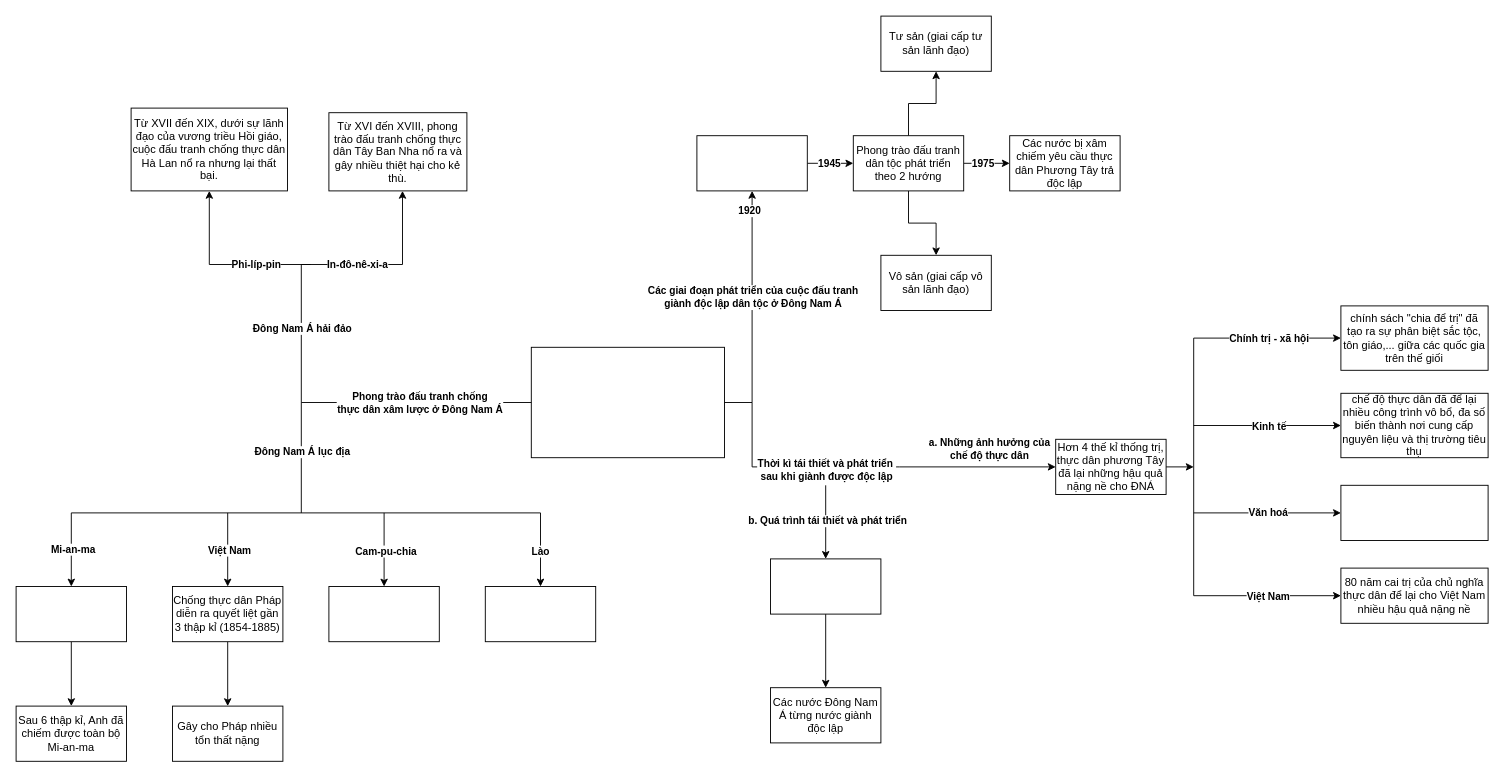
Image size: 1504x777. Some labels were removed from this diagram. The shapes that lost their labels are listed below. From the top down, each one's centre as x and y in pixels, then its label:
At point 751,163: "Phong trào chống thực dân mang tính chất phong kiến và diễn ra sớm".
At point 627,402: "Hành trình đi đến độc lập dân tộc ở Đông Nam Á".
At point 1414,512: "tạo văn hoá nô dịch, thi hành chinh sách ngu dân và hạn chế hoạt động giáo dục".
At point 825,586: "Từ giữa TK XX, các nước thành lập ASEAN để phát triển".
At point 70,614: "1824-1826, 1852 và 1885, kháng chiến chống thực dân Anh diễn ra mạnh mẽ.".
At point 383,614: "sau khi Nô-rô-đôm kí hiệp ước với Pháp (1863), nhiều cuộc khởi nghĩa nổ ra.".
At point 540,614: "Phong trào chống Pháp diễn ra mạnh mẽ sau khi kí hiệp ước với Pháp (1893)".
